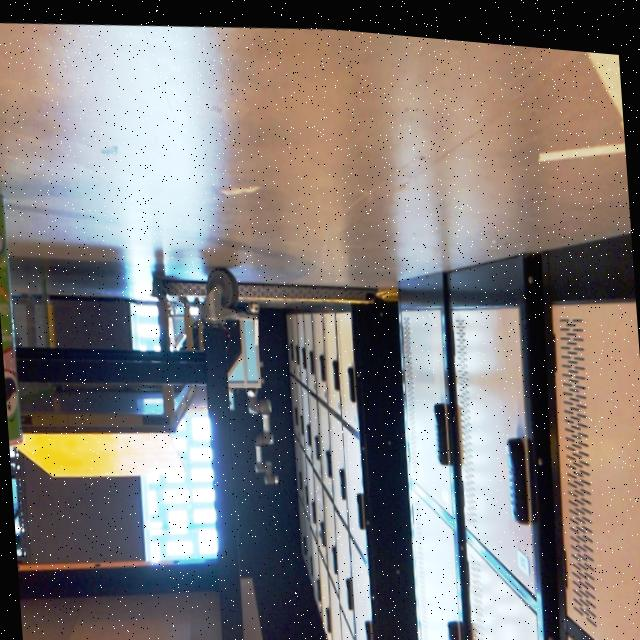greenpringles: (0, 135, 28, 459)
